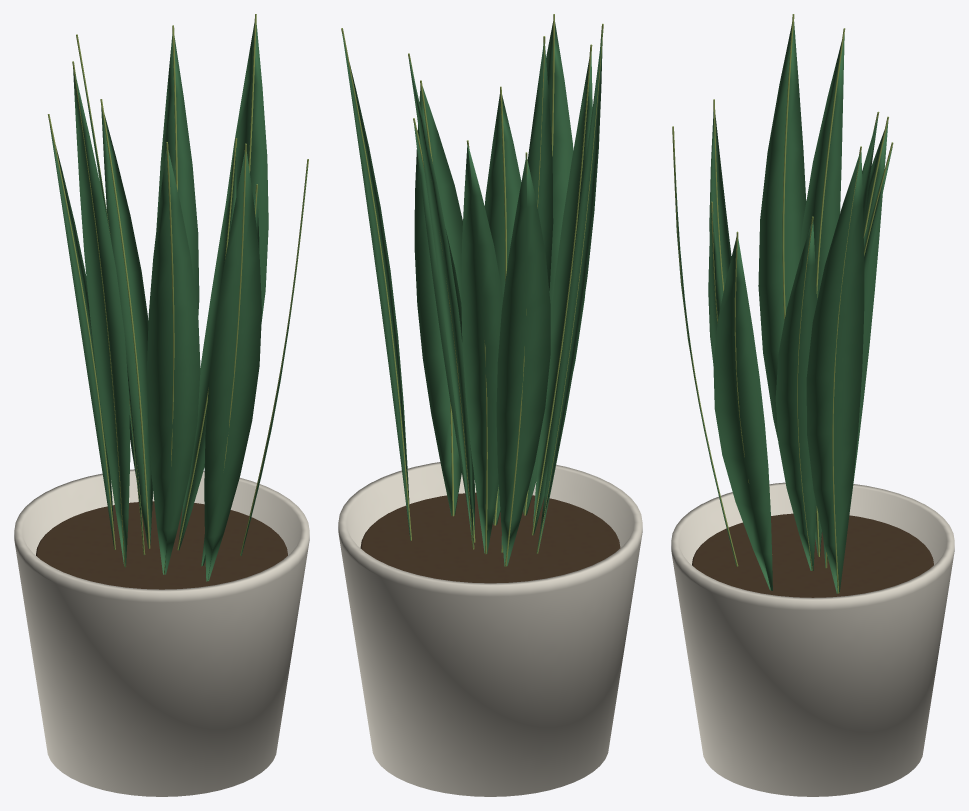
Rendered from snake-plant.glb.
3 renders of one model, left to right at view 1: azimuth 30°, elevation 25°; view 2: azimuth 150°, elevation 25°; view 3: azimuth 270°, elevation 25°, orthographic. The views are drawn at different scales.
Visible parts, largest first — view 1: Thick ivory plant pot, Upright snake-plant blade.007, Upright snake-plant blade.002, Visible contained soil, Upright snake-plant blade.004, Upright snake-plant blade.006, Upright snake-plant blade.008, Upright snake-plant blade.003, Upright snake-plant blade, Upright snake-plant blade.001, Leaf curved structural midrib.006, Leaf curved structural midrib.001 (+8 smaller); view 2: Thick ivory plant pot, Visible contained soil, Upright snake-plant blade.001, Upright snake-plant blade.006, Upright snake-plant blade.005, Upright snake-plant blade.004, Upright snake-plant blade.007, Upright snake-plant blade.003, Upright snake-plant blade.008, Upright snake-plant blade.002, Upright snake-plant blade.010, Upright snake-plant blade.009 (+4 smaller); view 3: Thick ivory plant pot, Upright snake-plant blade.008, Visible contained soil, Upright snake-plant blade.005, Upright snake-plant blade.004, Upright snake-plant blade, Upright snake-plant blade.009, Upright snake-plant blade.001, Upright snake-plant blade.007, Upright snake-plant blade.010, Upright snake-plant blade.002, Leaf curved structural midrib.002 (+5 smaller).
Part boxes in pixels (x1,y1,x2,y2): Thick ivory plant pot: (14, 469, 309, 796); Upright snake-plant blade.007: (147, 148, 200, 574); Upright snake-plant blade.002: (204, 152, 261, 581); Visible contained soil: (36, 501, 287, 589); Upright snake-plant blade.004: (73, 68, 130, 567); Upright snake-plant blade.006: (101, 107, 152, 548); Upright snake-plant blade.008: (226, 23, 268, 323); Upright snake-plant blade.003: (156, 34, 199, 314); Upright snake-plant blade: (178, 147, 236, 550); Upright snake-plant blade.001: (49, 121, 114, 549); Leaf curved structural midrib.006: (100, 99, 150, 548); Leaf curved structural midrib.001: (47, 114, 115, 549); Thick ivory plant pot: (338, 462, 642, 796); Visible contained soil: (360, 492, 620, 583); Upright snake-plant blade.001: (496, 156, 550, 566); Upright snake-plant blade.006: (461, 144, 503, 553); Upright snake-plant blade.005: (414, 85, 462, 515); Upright snake-plant blade.004: (537, 30, 602, 553); Upright snake-plant blade.007: (533, 51, 592, 535); Upright snake-plant blade.003: (408, 58, 473, 547); Upright snake-plant blade.008: (342, 33, 410, 540); Upright snake-plant blade.002: (523, 21, 573, 515); Upright snake-plant blade.010: (484, 94, 521, 524); Upright snake-plant blade.009: (501, 42, 553, 552); Thick ivory plant pot: (671, 482, 954, 796); Upright snake-plant blade.008: (806, 151, 864, 593); Visible contained soil: (692, 513, 933, 597); Upright snake-plant blade.005: (713, 237, 772, 590); Upright snake-plant blade.004: (758, 22, 806, 440); Upright snake-plant blade: (775, 222, 817, 570); Upright snake-plant blade.009: (799, 34, 844, 556); Upright snake-plant blade.001: (849, 122, 888, 511); Upright snake-plant blade.007: (709, 111, 731, 295); Upright snake-plant blade.010: (708, 208, 722, 363); Upright snake-plant blade.002: (673, 137, 736, 566); Leaf curved structural midrib.002: (672, 126, 738, 566).
Bounding box in the file's own units: 0.22 × 0.5906 × 0.22.
4 materials, 4 textured.
